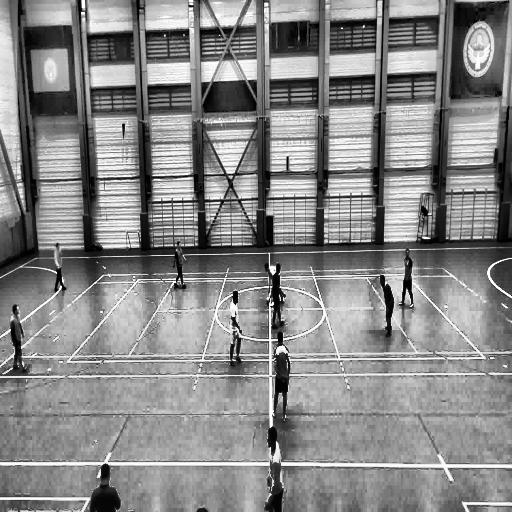ball: (266, 294, 272, 307)
player: (271, 328, 289, 422), (266, 427, 284, 512), (226, 286, 244, 368), (11, 304, 30, 373), (264, 257, 287, 308), (380, 275, 394, 338), (271, 262, 284, 328), (398, 249, 413, 305), (53, 243, 67, 292), (173, 242, 187, 288)
